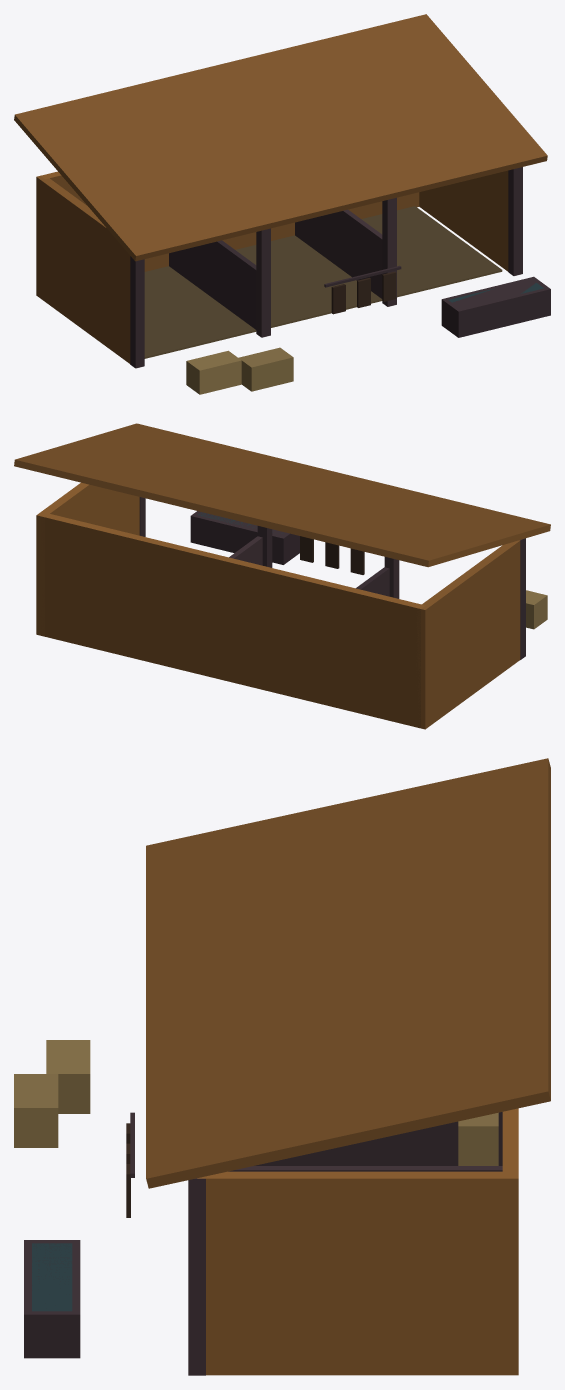
File: walk_hive_stable.glb
The picture shows the model from 3 angles, top to bottom: view 1: azimuth 30°, elevation 25°; view 2: azimuth 150°, elevation 25°; view 3: azimuth 270°, elevation 25°; orthographic projection. The views are drawn at different scales.
Parts seen in each view (by area): view 1: walk_hive_stable_roof, walk_hive_stable; view 2: walk_hive_stable, walk_hive_stable_roof; view 3: walk_hive_stable_roof, walk_hive_stable.
Boxes of the visible parts, left/top/right/bottom form: walk_hive_stable_roof: left=14, top=14, right=547, bottom=261; walk_hive_stable: left=36, top=167, right=550, bottom=394; walk_hive_stable: left=36, top=482, right=547, bottom=729; walk_hive_stable_roof: left=14, top=423, right=550, bottom=567; walk_hive_stable_roof: left=146, top=758, right=550, bottom=1188; walk_hive_stable: left=14, top=1040, right=518, bottom=1375.
Size of what is drawn, in the model's own units: 9.8 by 4.04 by 6.68.
Materials: 1 (1 with a texture image).
